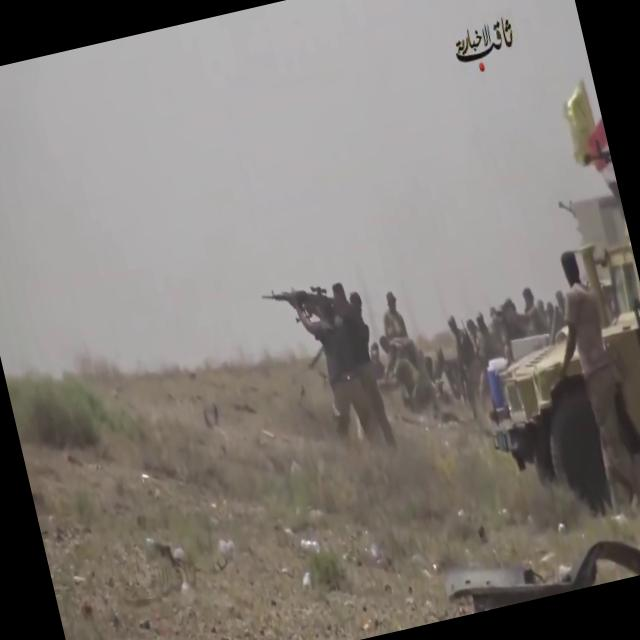long weapon: (255, 272, 336, 329)
